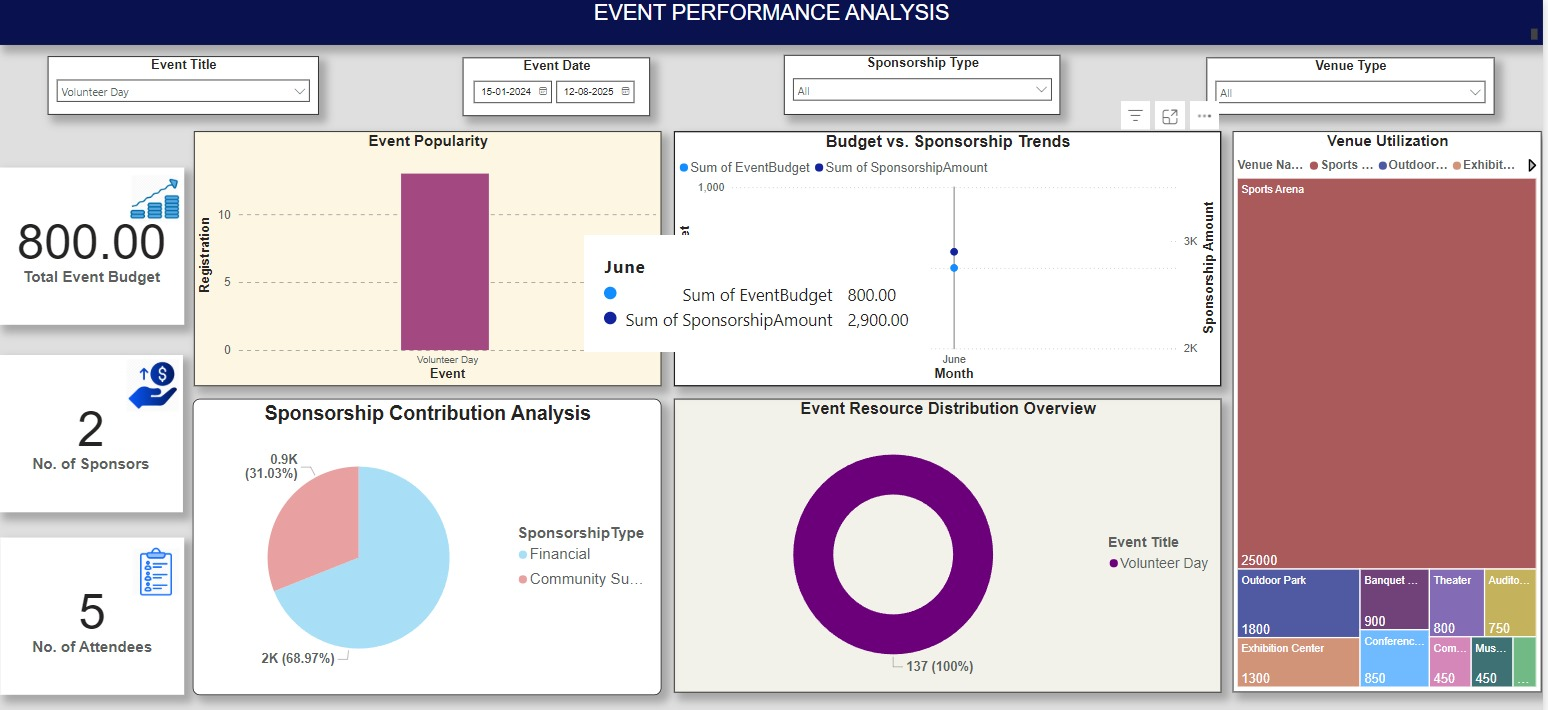

The dashboard page shown, as its layout file describes it:
{"tool":"powerbi","page":{"name":"Dashboard","canvas":[1900,880],"ordinal":5},"visuals":[{"type":"textbox","title":" EVENT PERFORMANCE ANALYSIS","box":[0,0,1900,55],"z":0},{"type":"slicer","title":"Event Title","fields":{"Values":["Event.EventTitle"]},"box":[59.3,68.5,333.3,72.2],"z":1000},{"type":"slicer","title":"Venue Type","fields":{"Values":["VenueType.VenueTypeName"]},"box":[1486,70,354,70],"z":2000},{"type":"slicer","title":"Event Date","fields":{"Values":["Event.StartDate"]},"box":[570,70,230,71.7],"z":3000},{"type":"slicer","title":"Sponsorship Type","fields":{"Values":["EventSponsor.SponsorshipType"]},"box":[966.7,68.3,340,73.3],"z":4000},{"type":"card","fields":{"Values":["Sum(Event.EventBudget)"]},"box":[0,206.7,228.3,193.3],"z":5000},{"type":"card","title":"Count Of Attendee","fields":{"Values":["CountNonNull(Attendance.AttendanceID)"]},"box":[1.7,661.7,226.7,193.3],"z":6000},{"type":"card","fields":{"Values":["CountNonNull(EventSponsor.SponsorID)"]},"box":[0,436.7,226.7,193.3],"z":7000},{"type":"image","box":[158.3,661.7,70,83.3],"z":8000},{"type":"image","box":[156.7,198.3,70,91.7],"z":9000},{"type":"image","box":[150,403.3,76.7,141.7],"z":10000},{"type":"donutChart","title":"Event Resource Distribution Overview","fields":{"Y":["Sum(EventResourceAllocation.AllocatedQuantity)"],"Category":["Event.EventTitle"]},"box":[830,490,673.3,361.7],"z":11000},{"type":"lineChart","title":"Budget vs. Sponsorship Trends","fields":{"Y":["Sum(Event.EventBudget)"],"Category":["Event.EndDate.Variation.Date Hierarchy.Month"],"Y2":["Sum(EventSponsor.SponsorshipAmount)"]},"box":[830,161.7,673.3,313.3],"z":12000},{"type":"columnChart","title":"Event Popularity","fields":{"Category":["Event.EventTitle"],"Y":["CountNonNull(Registration.RegistrationID)"]},"box":[240,161.7,575,313.3],"z":13000},{"type":"treemap","title":"Venue Utilization","fields":{"Values":["Sum(Venue.VenueCapacity)"],"Group":["VenueType.VenueTypeName"]},"box":[1518.3,161.7,380,690],"z":14000},{"type":"pieChart","title":"Sponsorship Contribution Analysis","fields":{"Category":["EventSponsor.SponsorshipType"],"Y":["Sum(EventSponsor.SponsorshipAmount)"]},"box":[238.3,490,576.7,365],"z":15000}]}

Visuals, with their boxes in screenshot pixels (x1, y1, x2, y2), scaled from the page's 1900x880 canvas onto the 1548x710 screenshot:
" EVENT PERFORMANCE ANALYSIS" textbox: Rect(0, 0, 1547, 44)
"Event Title" slicer: Rect(48, 55, 320, 114)
"Venue Type" slicer: Rect(1211, 56, 1499, 113)
"Event Date" slicer: Rect(464, 56, 652, 114)
"Sponsorship Type" slicer: Rect(788, 55, 1065, 114)
card - Sum(Event.EventBudget): Rect(0, 167, 186, 323)
"Count Of Attendee" card: Rect(1, 534, 186, 690)
card - CountNonNull(EventSponsor.SponsorID): Rect(0, 352, 185, 508)
image: Rect(129, 534, 186, 601)
image: Rect(128, 160, 185, 234)
image: Rect(122, 325, 185, 440)
"Event Resource Distribution Overview" donutChart: Rect(676, 395, 1225, 687)
"Budget vs. Sponsorship Trends" lineChart: Rect(676, 130, 1225, 383)
"Event Popularity" columnChart: Rect(196, 130, 664, 383)
"Venue Utilization" treemap: Rect(1237, 130, 1547, 687)
"Sponsorship Contribution Analysis" pieChart: Rect(194, 395, 664, 690)
